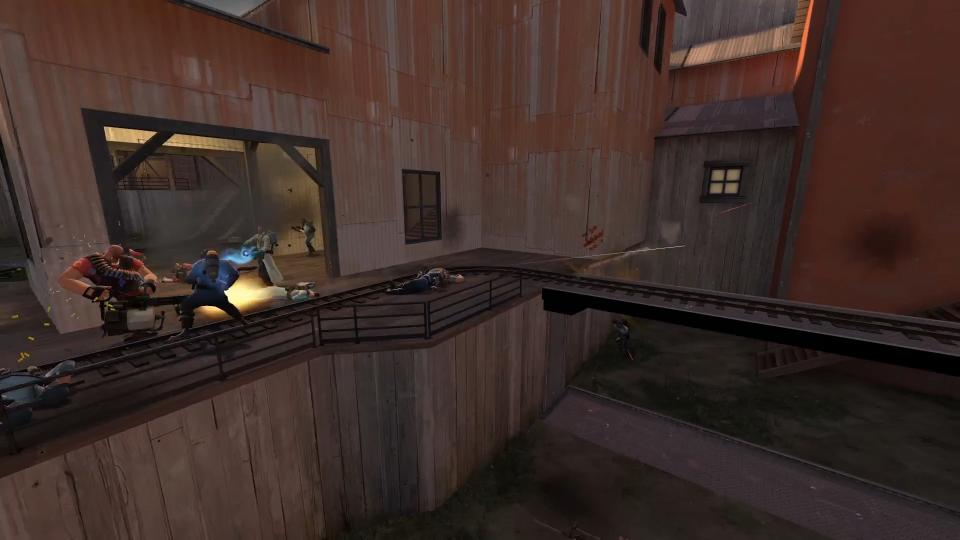Enemy: (56, 243, 194, 347), (166, 244, 254, 342), (245, 223, 286, 287), (289, 215, 323, 258), (265, 280, 323, 305), (609, 315, 634, 355)
